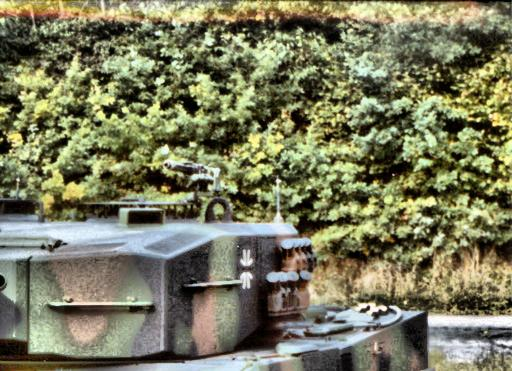tanks: (1, 166, 433, 371)
